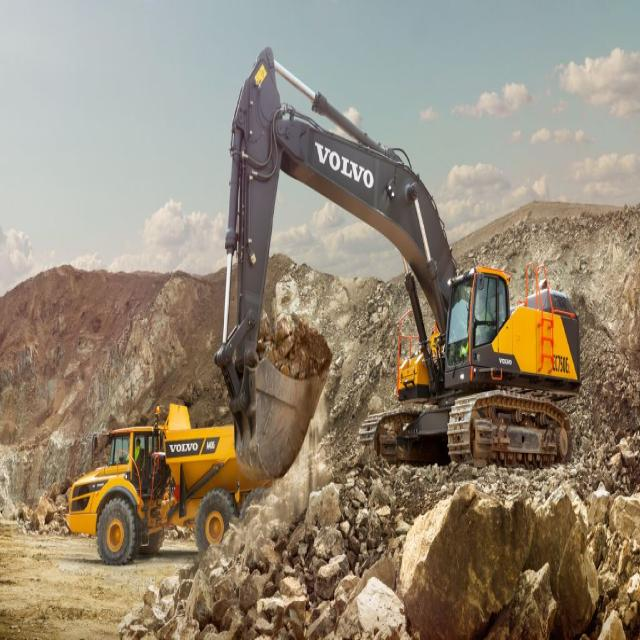dump_truck: (62, 385, 290, 592)
excavator: (213, 36, 605, 550)
